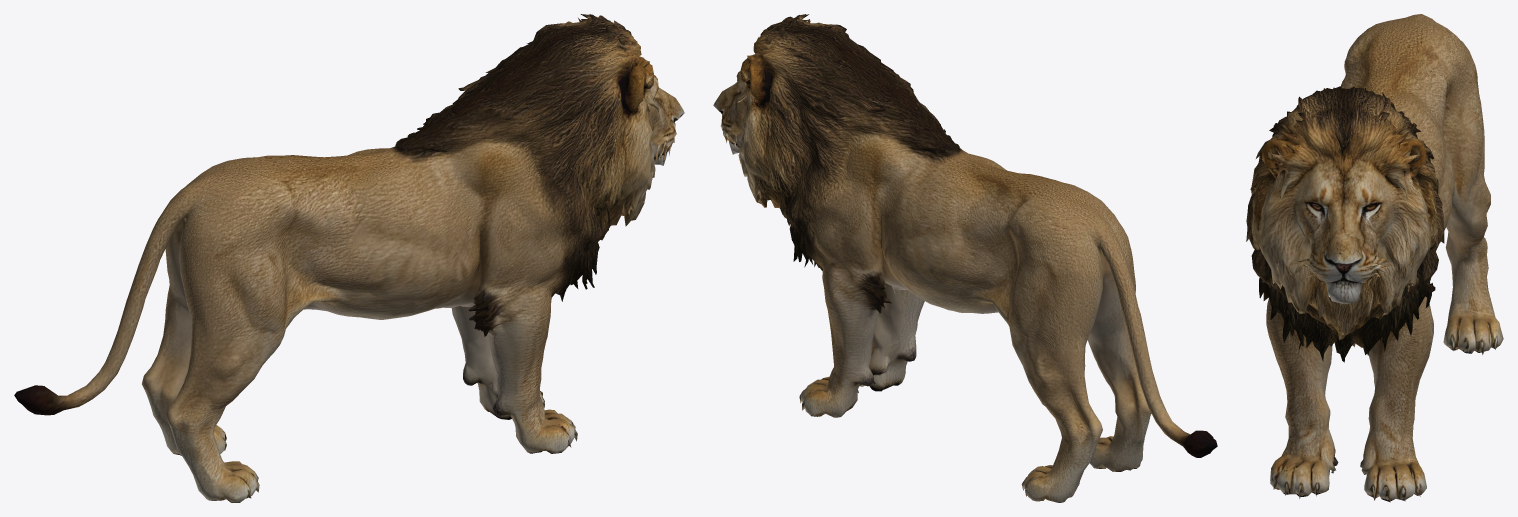
File: lion.glb
3 views of the same model, side by side, from view 1: azimuth 30°, elevation 25°; view 2: azimuth 150°, elevation 25°; view 3: azimuth 270°, elevation 25° (orthographic). The views are drawn at different scales.
Parts seen in each view (by area): view 1: tripo_node_0016e3e1-1cb9-441d-ae6d-0db924e26f23; view 2: tripo_node_0016e3e1-1cb9-441d-ae6d-0db924e26f23; view 3: tripo_node_0016e3e1-1cb9-441d-ae6d-0db924e26f23.
Part boxes in pixels (x1=…): tripo_node_0016e3e1-1cb9-441d-ae6d-0db924e26f23: x1=14, y1=14, x2=684, y2=502; tripo_node_0016e3e1-1cb9-441d-ae6d-0db924e26f23: x1=713, y1=14, x2=1217, y2=502; tripo_node_0016e3e1-1cb9-441d-ae6d-0db924e26f23: x1=1246, y1=14, x2=1503, y2=502.
Bounding box in the file's own units: 1 × 0.621 × 0.3403.
Materials: 1 (1 with a texture image).
